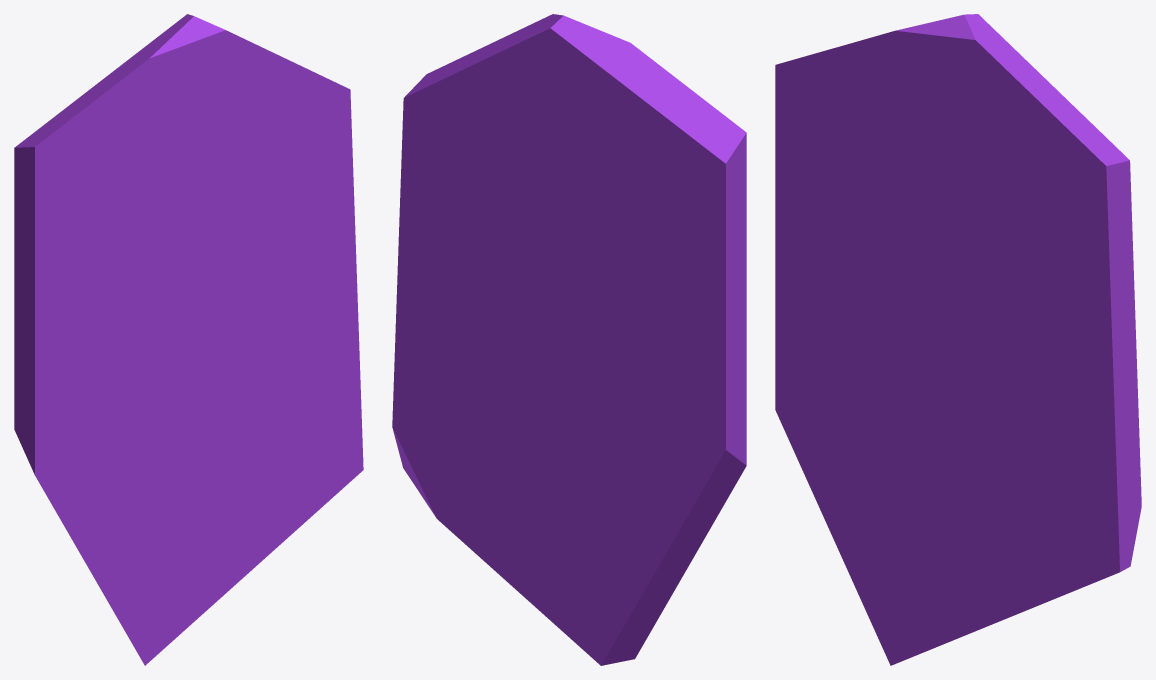
File: Glass_83_3_13_chunks.fbx
3 views of the same model, side by side, from view 1: azimuth 30°, elevation 25°; view 2: azimuth 150°, elevation 25°; view 3: azimuth 330°, elevation 25° (orthographic). The views are drawn at different scales.
Visible parts, largest first — view 1: Glass_83_3_13_0; view 2: Glass_83_3_13_0; view 3: Glass_83_3_13_0.
Boxes of the visible parts, x1=… form: Glass_83_3_13_0: x1=14, y1=14, x2=363, y2=665; Glass_83_3_13_0: x1=392, y1=14, x2=746, y2=665; Glass_83_3_13_0: x1=775, y1=14, x2=1141, y2=665.
Size of the model in its own units: 252 by 458 by 27.2.
